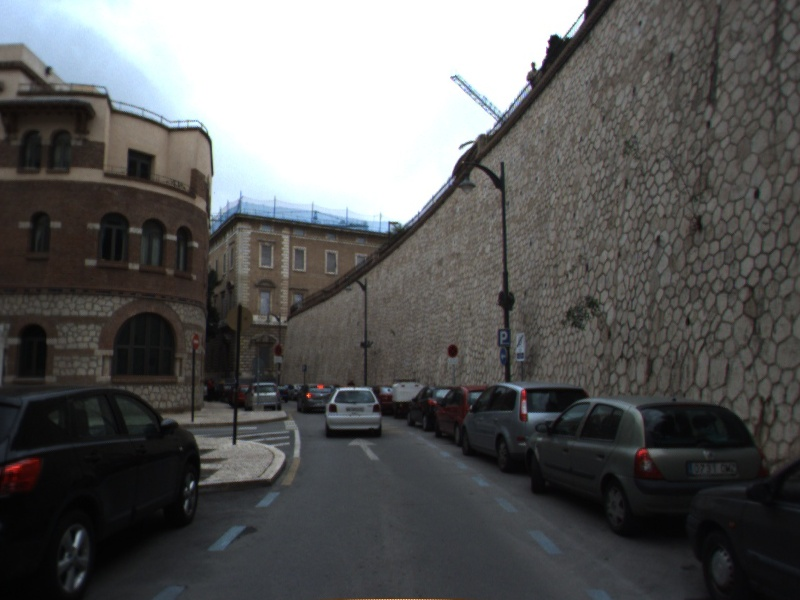STRAIGHT: (346, 436, 383, 463)
